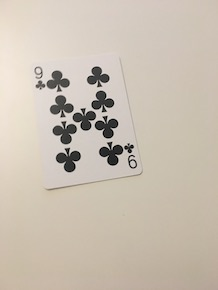NineOfClubs: (29, 49, 145, 193)
